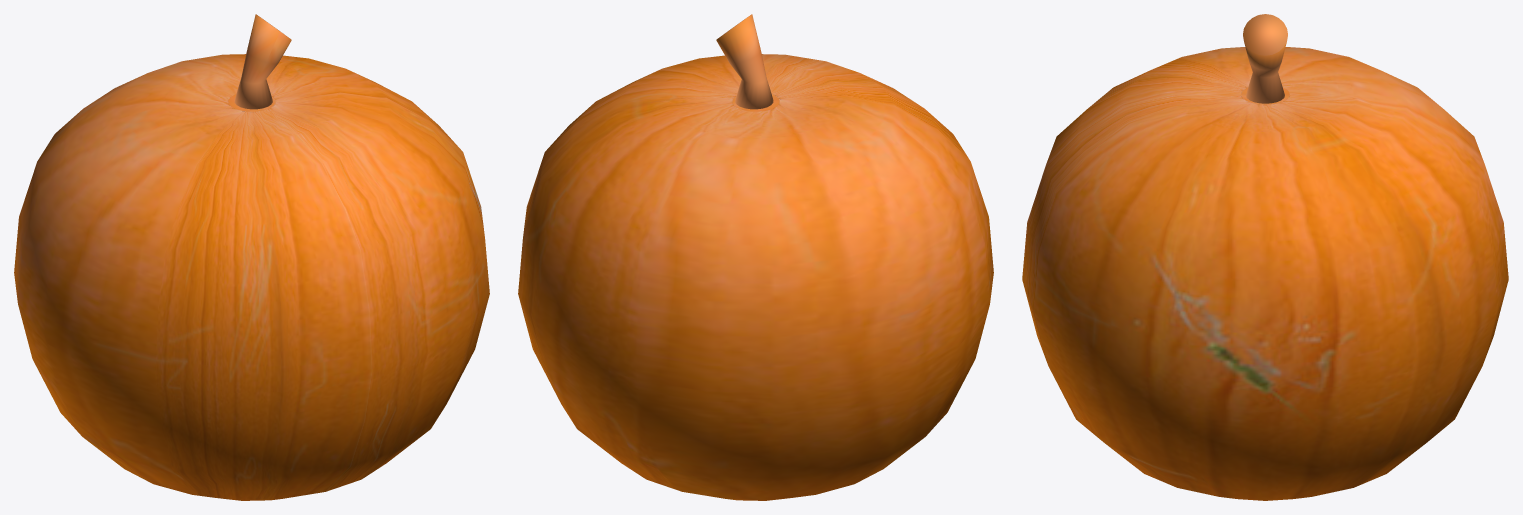
The model's file is pumpkin.fbx.
The picture shows the model from 3 angles, left to right: view 1: azimuth 30°, elevation 25°; view 2: azimuth 150°, elevation 25°; view 3: azimuth 270°, elevation 25°; orthographic projection.
Parts seen in each view (by area): view 1: pumpkin, pumpkin_stem; view 2: pumpkin, pumpkin_stem; view 3: pumpkin, pumpkin_stem.
Part boxes in pixels (x1=…): pumpkin: x1=14, y1=54, x2=489, y2=500; pumpkin_stem: x1=234, y1=14, x2=291, y2=109; pumpkin: x1=518, y1=54, x2=993, y2=500; pumpkin_stem: x1=716, y1=14, x2=773, y2=109; pumpkin: x1=1022, y1=47, x2=1508, y2=500; pumpkin_stem: x1=1243, y1=14, x2=1287, y2=103.
Bounding box in the file's own units: 1.95 × 2.02 × 1.95.
